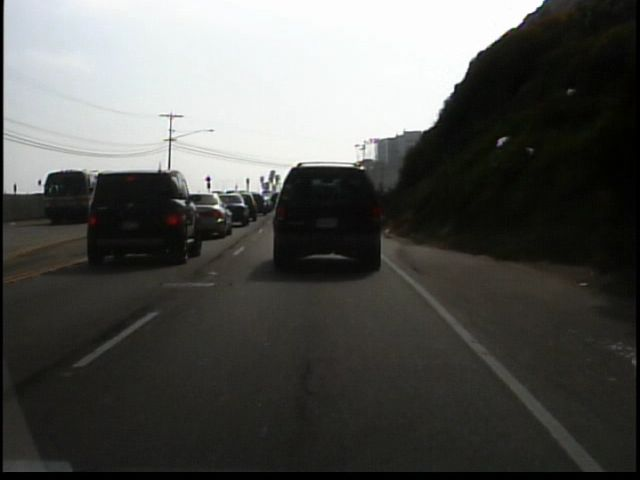car: (260, 154, 384, 279), (80, 161, 198, 270), (187, 184, 231, 239)
